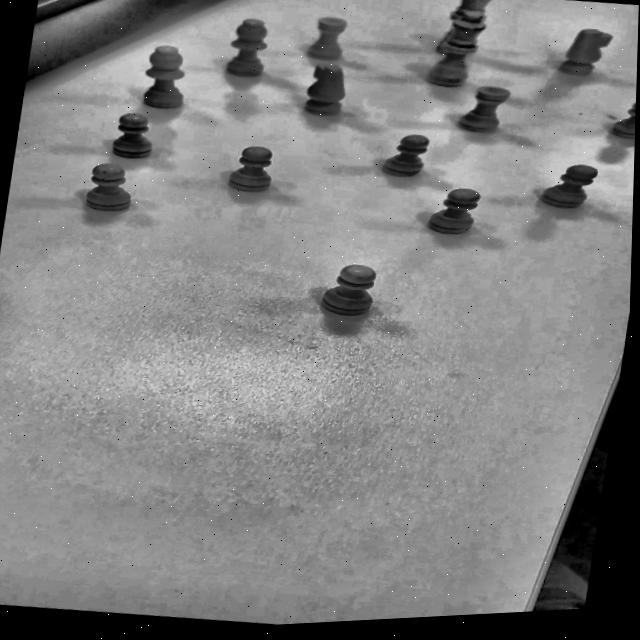white-bishop: (209, 8, 275, 92), (130, 37, 193, 113)
white-king: (417, 0, 507, 61)
white-knight: (540, 20, 618, 83), (286, 56, 354, 124)
white-pawn: (291, 250, 387, 336), (49, 151, 144, 227), (205, 137, 286, 210), (526, 153, 610, 220), (364, 123, 444, 186), (415, 178, 487, 247), (103, 105, 165, 165), (597, 94, 636, 147)
white-queen: (410, 3, 499, 91)
white-rook: (447, 78, 517, 142), (292, 6, 354, 65)
